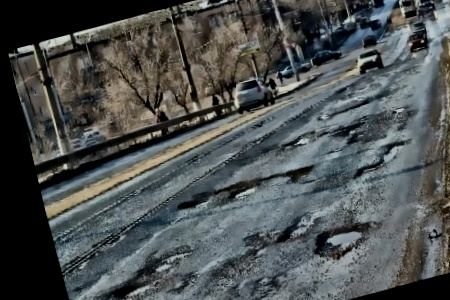pothole: (105, 246, 201, 300), (310, 216, 380, 264), (348, 138, 414, 179), (213, 172, 268, 195), (272, 217, 314, 245), (275, 129, 316, 154), (284, 161, 319, 184), (227, 180, 265, 200), (335, 118, 367, 139), (176, 195, 201, 212), (391, 102, 409, 114), (316, 111, 331, 122)
